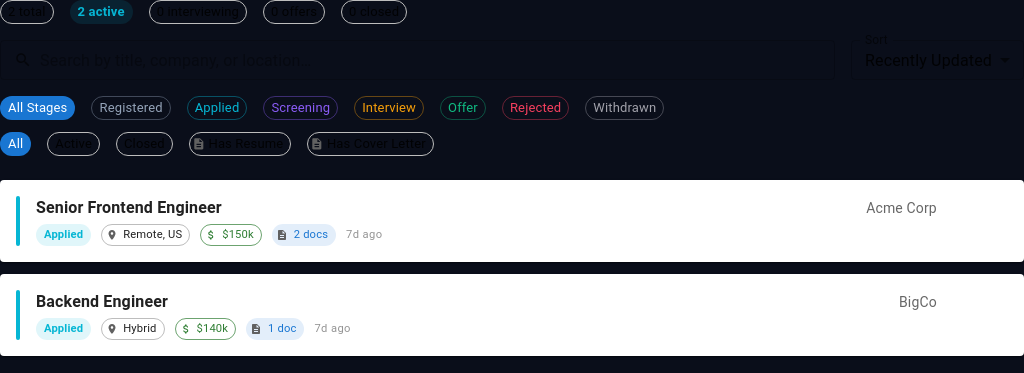
Test case: ApplicationsQueuePage › filters applications by cover-letter metadata from the API response
Click the button "Has Cover Letter".
click(371, 144)  # box [307,132,434,156]
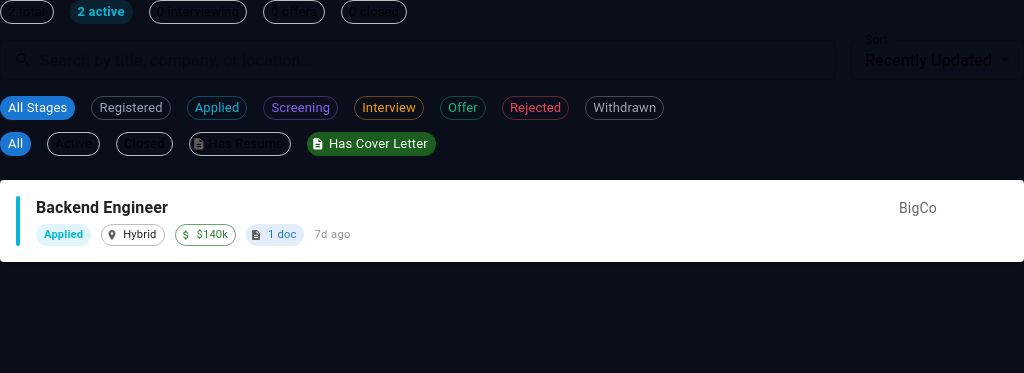
Check: the text "Backend Engineer" is shown, box [36,198,168,217]
Check: the button "Senior Frontend Engineer" is gone
